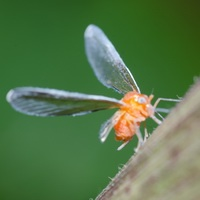insect: (6, 24, 179, 149)
